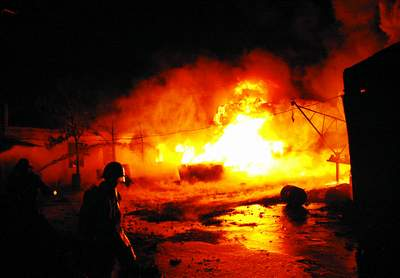fire: (164, 83, 291, 168)
